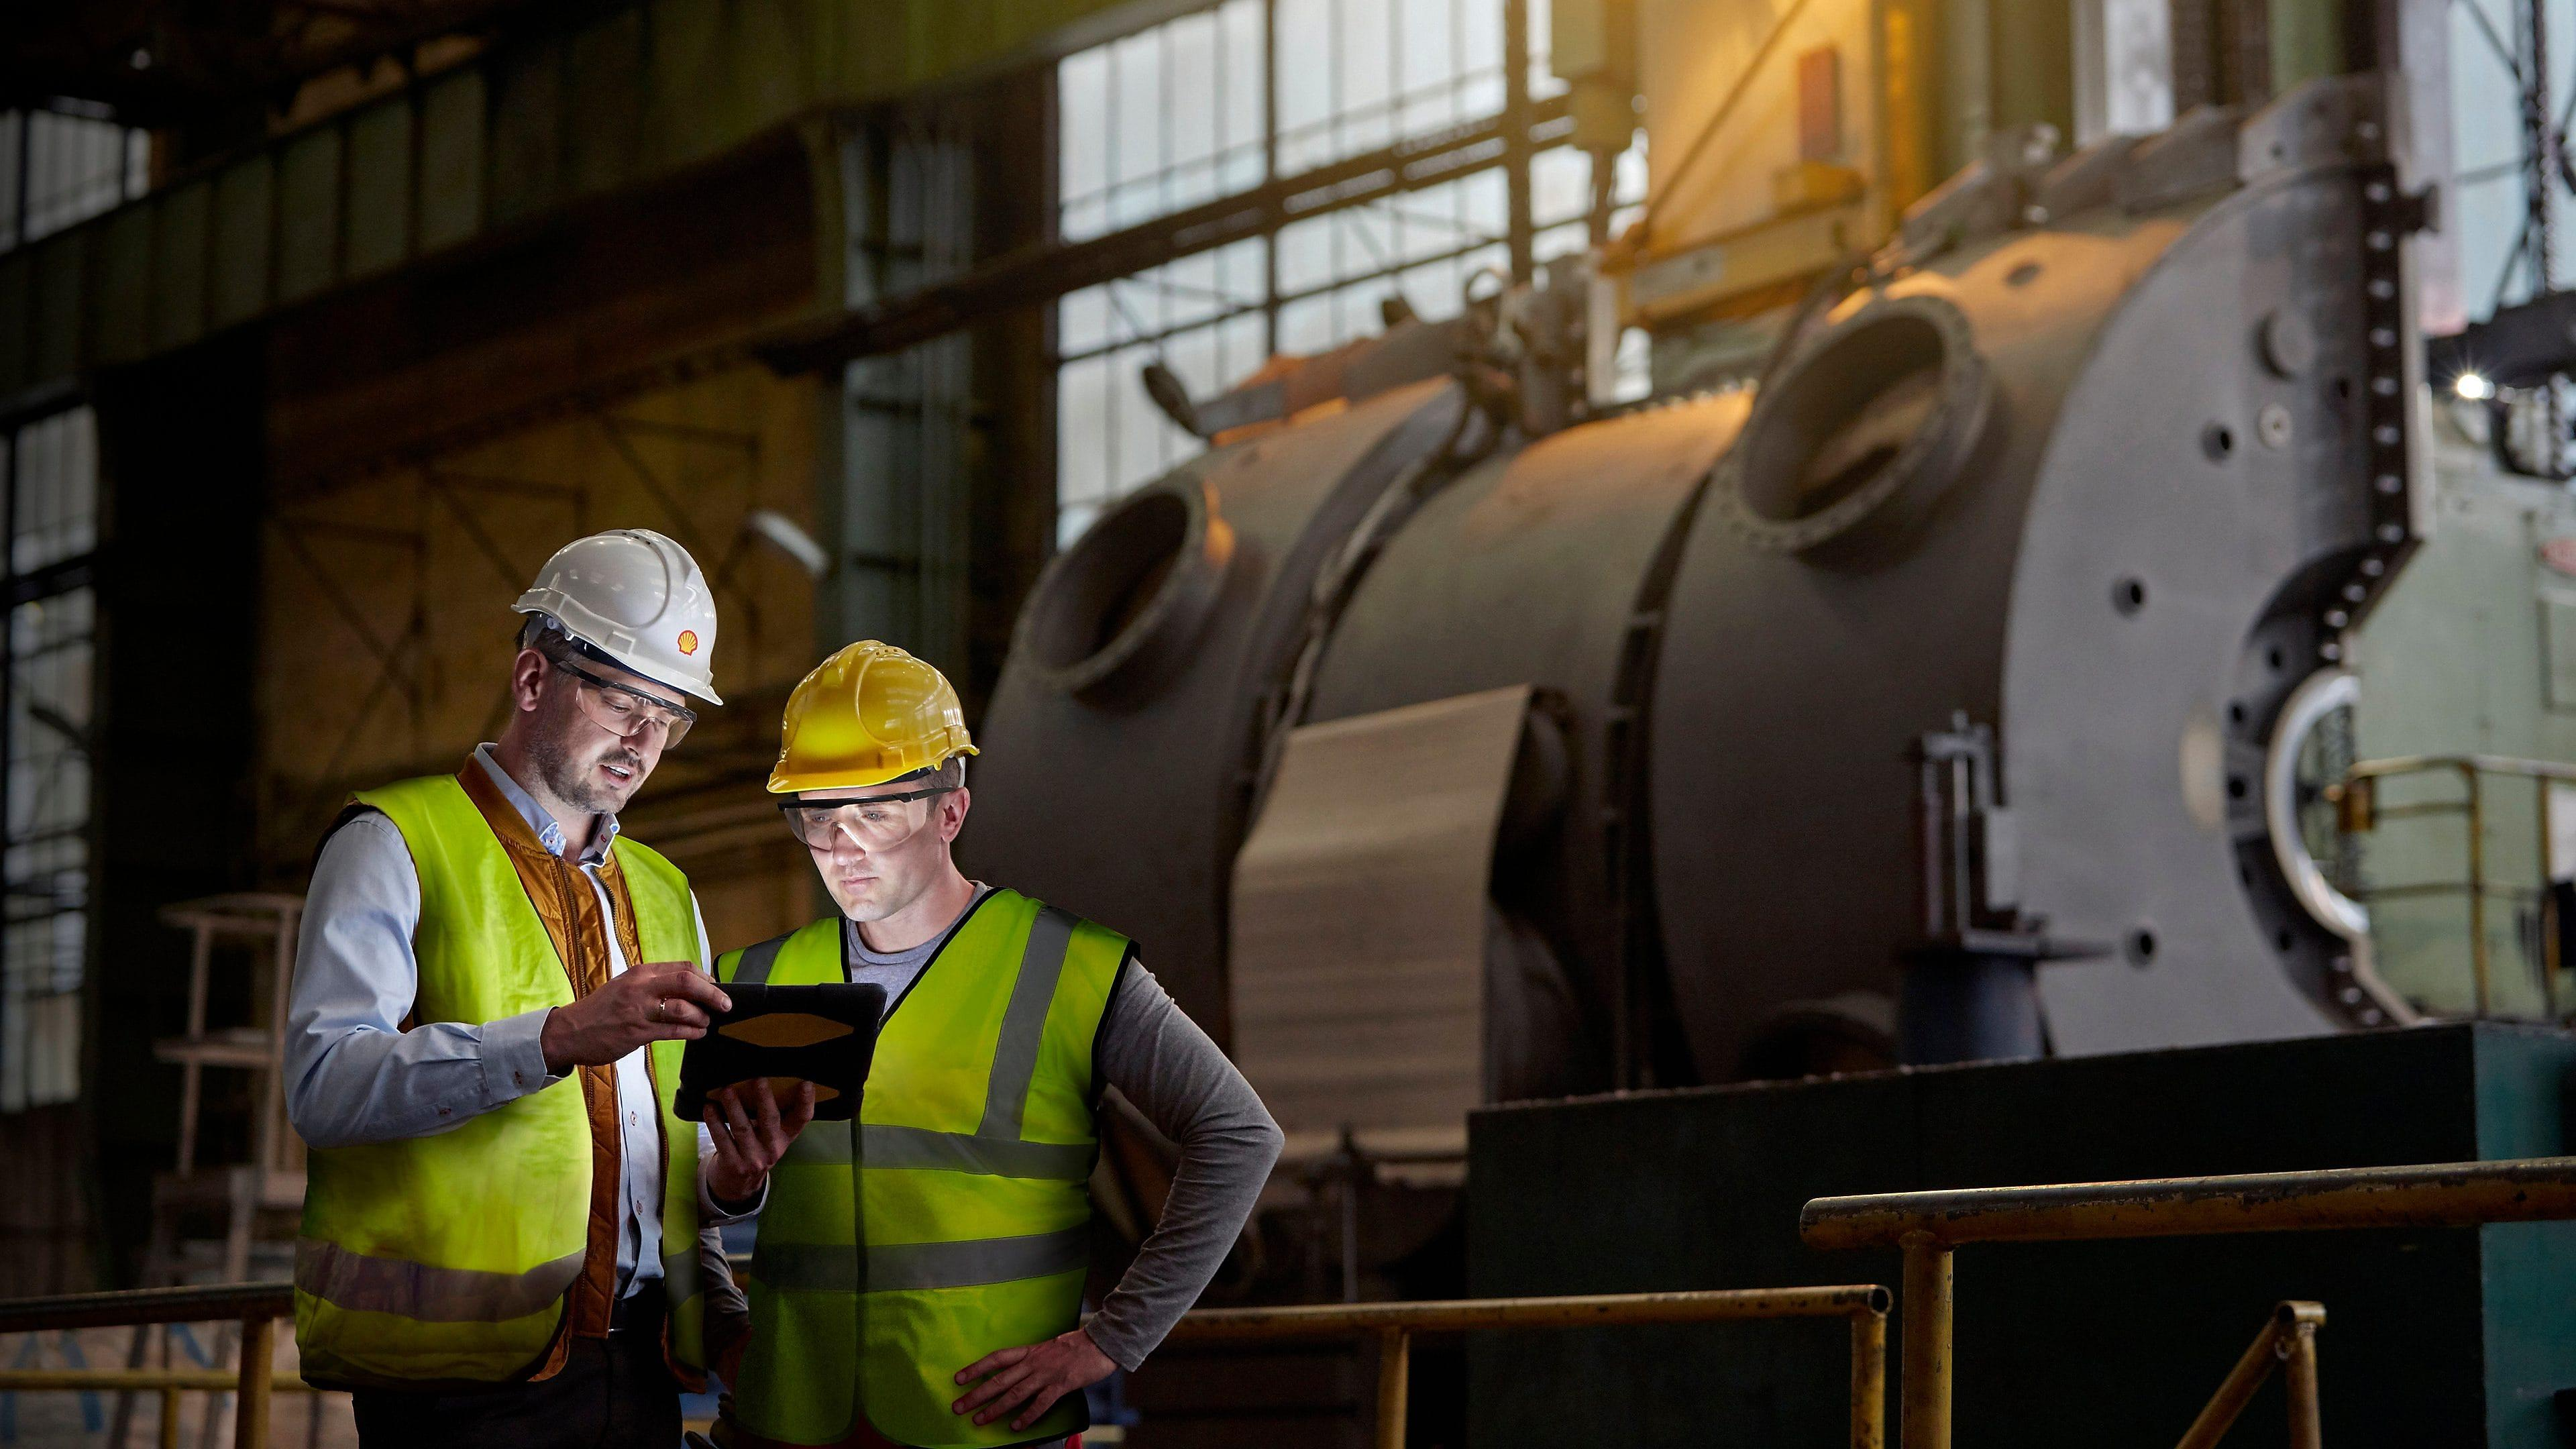helmet: (506, 525, 732, 711), (770, 639, 982, 805)
